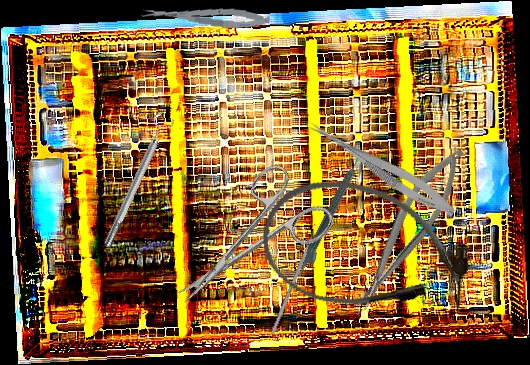Cannula: (248, 162, 484, 337)
Fixation Ring: (95, 109, 178, 252)
Handpiece: (296, 152, 370, 275)
Iris Scissors: (150, 154, 340, 331)
Micro Scissor: (299, 115, 461, 222), (140, 0, 271, 32)
Needle Holder: (341, 140, 477, 316)
Pusher: (270, 223, 319, 335)
